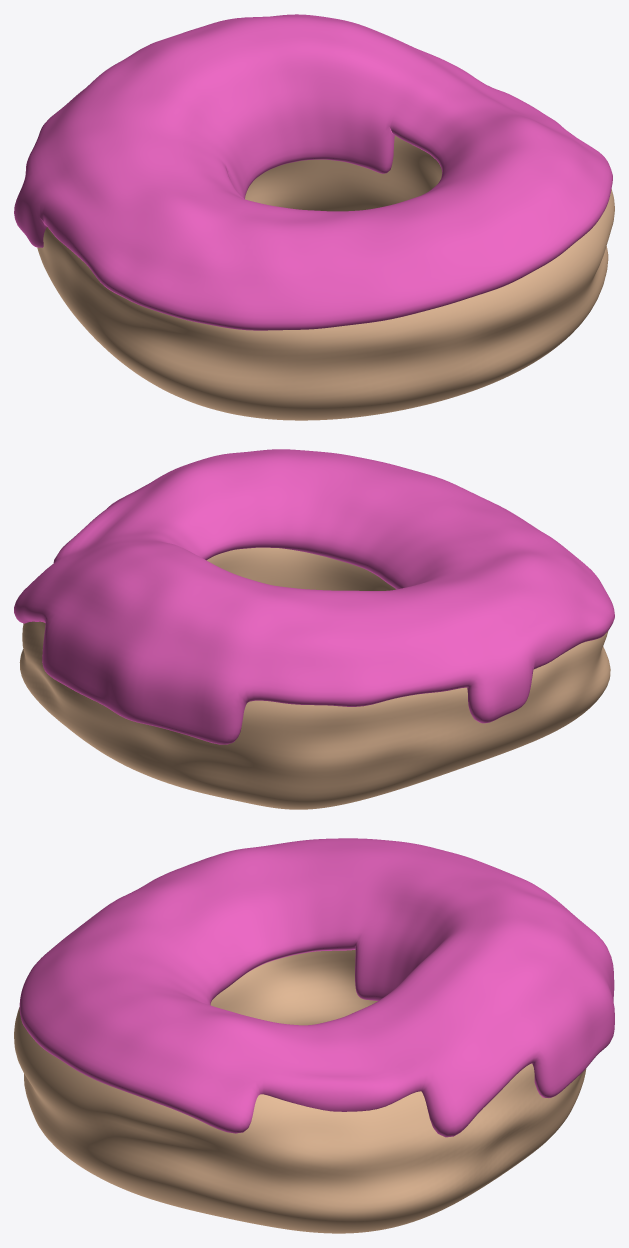
The model's file is donut.gltf.
3 renders of one model, top to bottom at view 1: azimuth 30°, elevation 25°; view 2: azimuth 150°, elevation 25°; view 3: azimuth 270°, elevation 25°, orthographic. The views are drawn at different scales.
Parts seen in each view (by area): view 1: Icing, Donut; view 2: Icing, Donut; view 3: Icing, Donut.
Part boxes in pixels (x1=…): Icing: x1=14, y1=14, x2=612, y2=330; Donut: x1=37, y1=135, x2=614, y2=420; Icing: x1=14, y1=449, x2=614, y2=744; Donut: x1=19, y1=547, x2=610, y2=809; Icing: x1=19, y1=838, x2=614, y2=1137; Donut: x1=14, y1=949, x2=586, y2=1233.
Size of what is drawn, in the model's own units: 0.1458 by 0.061 by 0.1455.
